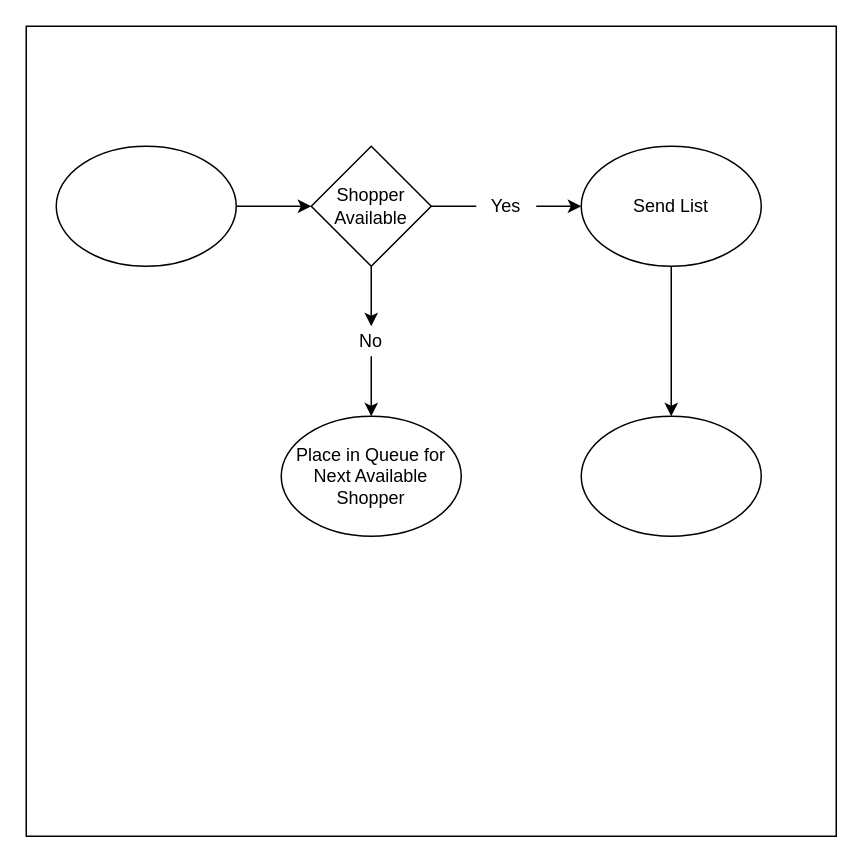
Some shapes in this 863 by 863 pixel diagram are drawn without their labels. The shapes that lost their labels are listed below. From the top down, each one's centre as x and y in pixels, then its label:
At point (145, 205): "Order Placed".
At point (670, 475): "Send Payment to Shopper".
